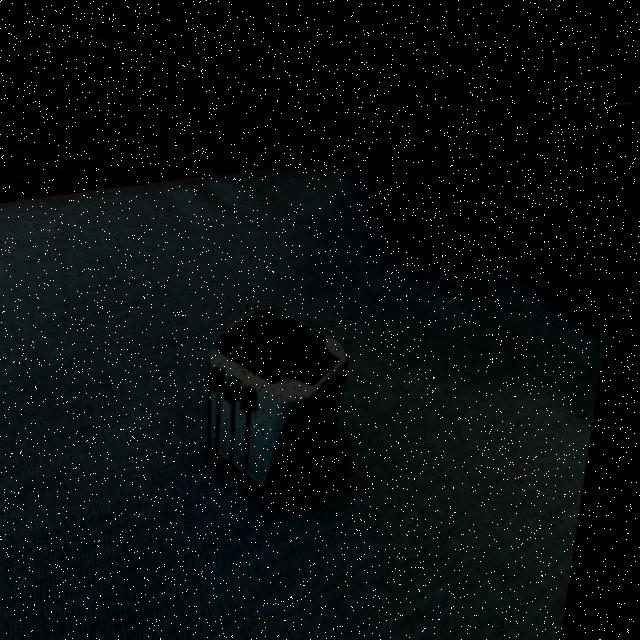adapter: (201, 287, 363, 502)
